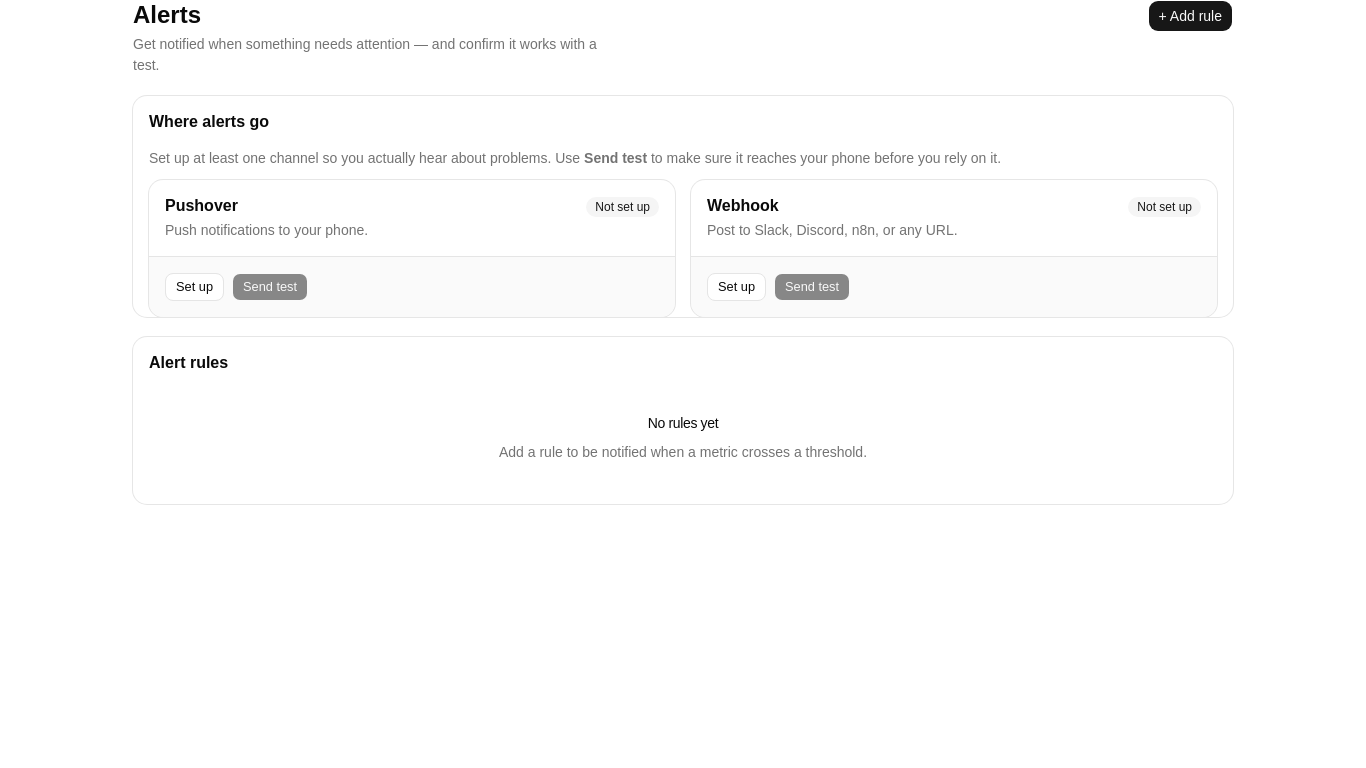
Alerts › opens the rule editor when Add rule is clicked
Click the button "+ Add rule": (1190, 16) [1148, 0, 1233, 32]
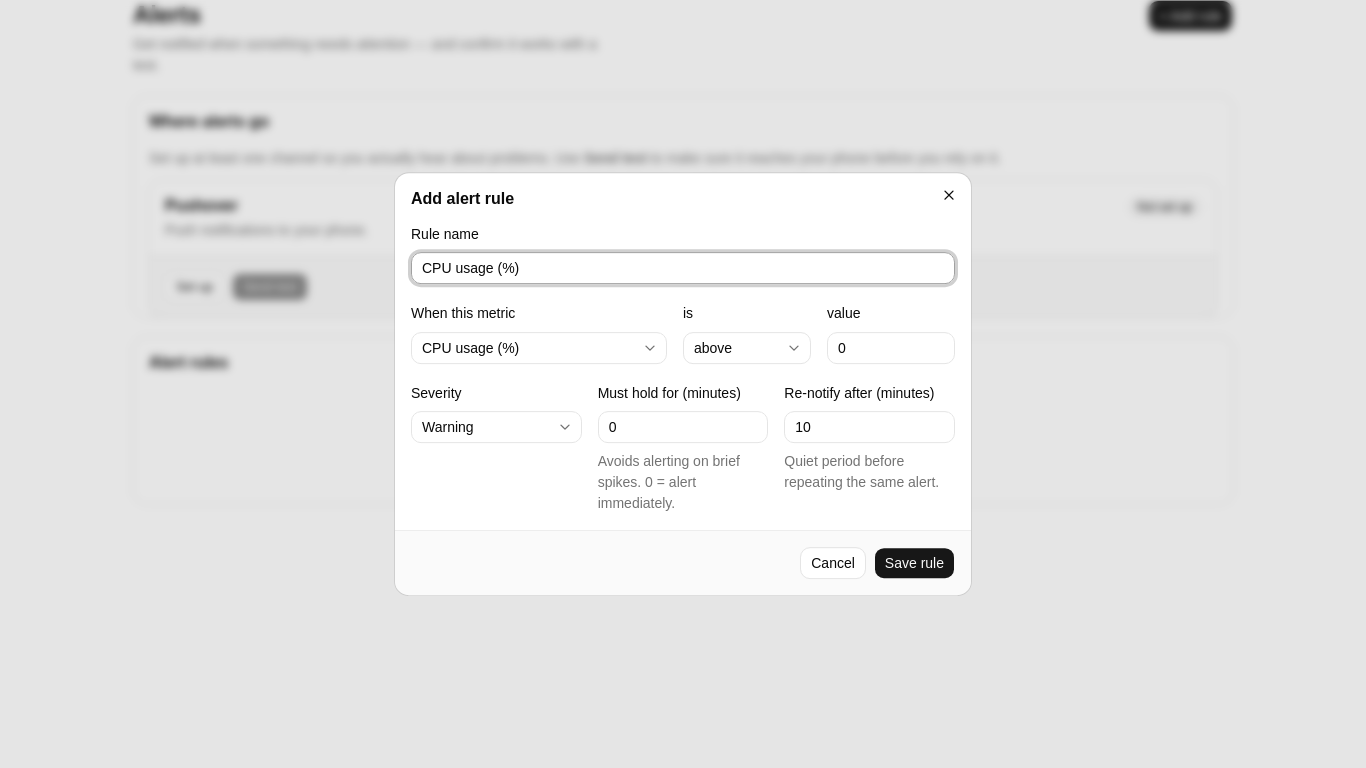
Check: the dialog shows "Add alert rule", box [411, 190, 514, 207]
